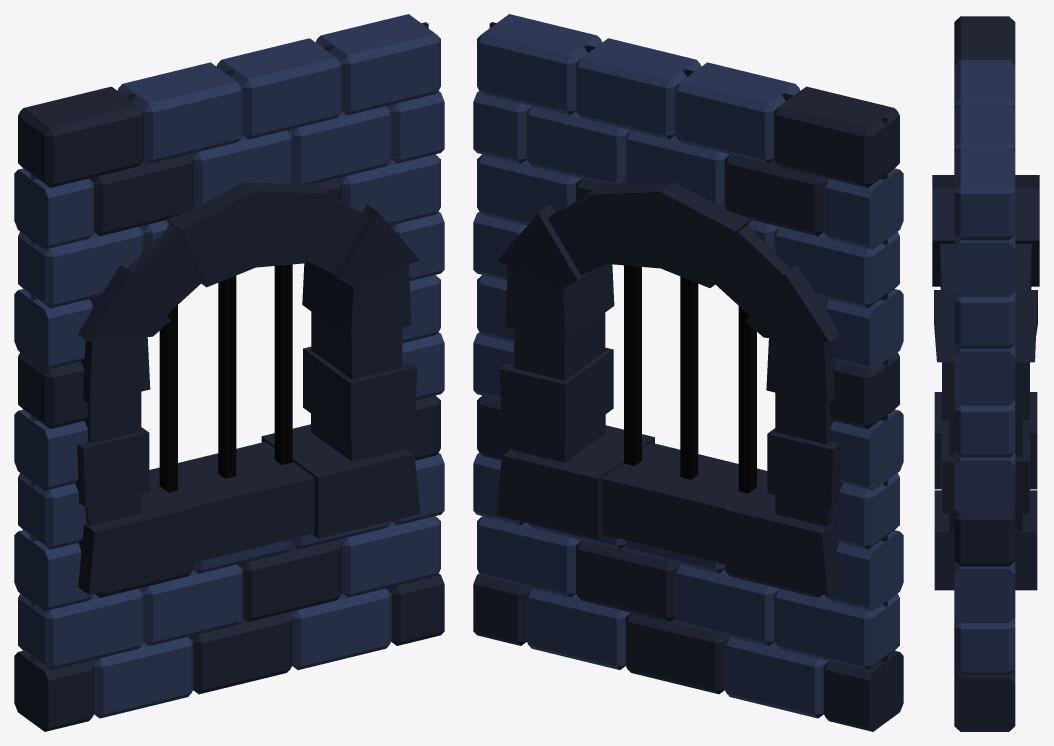
Rendered from Wall_Window.obj.
3 views of the same model, side by side, from view 1: azimuth 30°, elevation 25°; view 2: azimuth 150°, elevation 25°; view 3: azimuth 270°, elevation 25° (orthographic). The views are drawn at different scales.
Parts seen in each view (by area): view 1: EXPORT_Wall_Window; view 2: EXPORT_Wall_Window; view 3: EXPORT_Wall_Window.
Boxes of the visible parts, x1,y1,x2,y2 form: EXPORT_Wall_Window: [14, 14, 444, 731]; EXPORT_Wall_Window: [473, 14, 903, 731]; EXPORT_Wall_Window: [932, 16, 1039, 731].
Size of the model in its own units: 2.11 by 3.06 by 0.5465.
